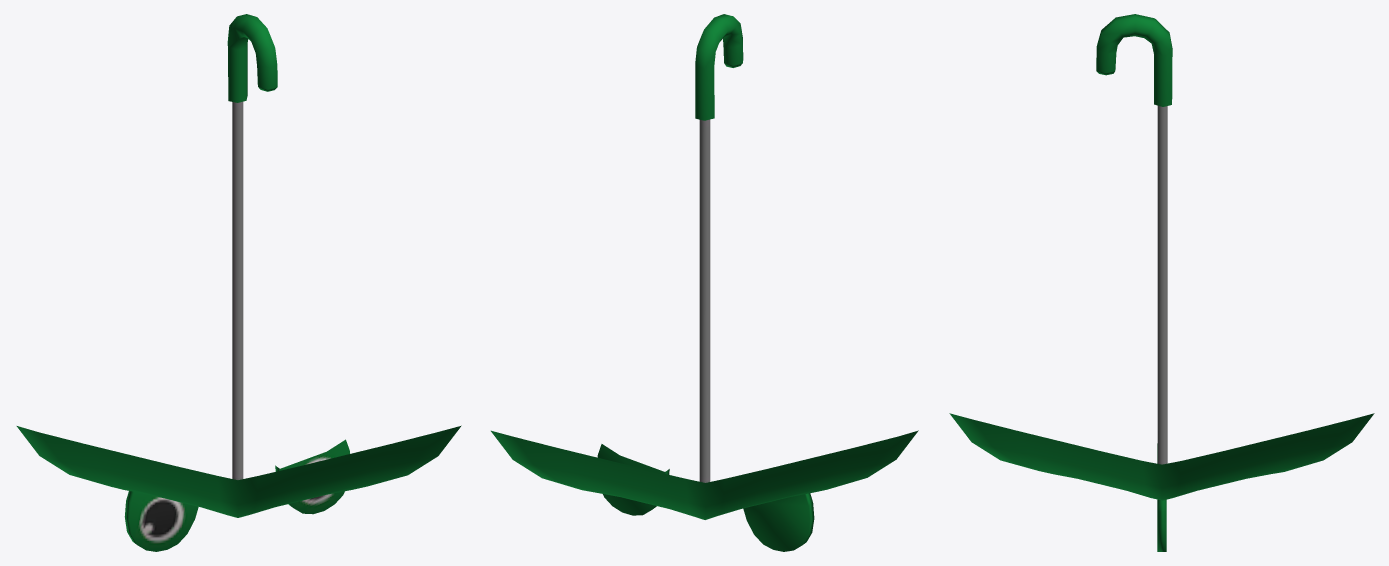
File: UmbrellaFrog0.glb
3 renders of one model, left to right at view 1: azimuth 30°, elevation 25°; view 2: azimuth 150°, elevation 25°; view 3: azimuth 270°, elevation 25°, orthographic. The views are drawn at different scales.
Visible parts, largest first — view 1: Eye__mUmbrella; view 2: Eye__mUmbrella; view 3: Eye__mUmbrella.
Part boxes in pixels (x1,y1,x2,y2): Eye__mUmbrella: (16,14,461,551); Eye__mUmbrella: (491,14,918,551); Eye__mUmbrella: (949,14,1374,551).
Size of the model in its own units: 15.33 by 17.24 by 13.39.
Materials: 1 (1 with a texture image).
